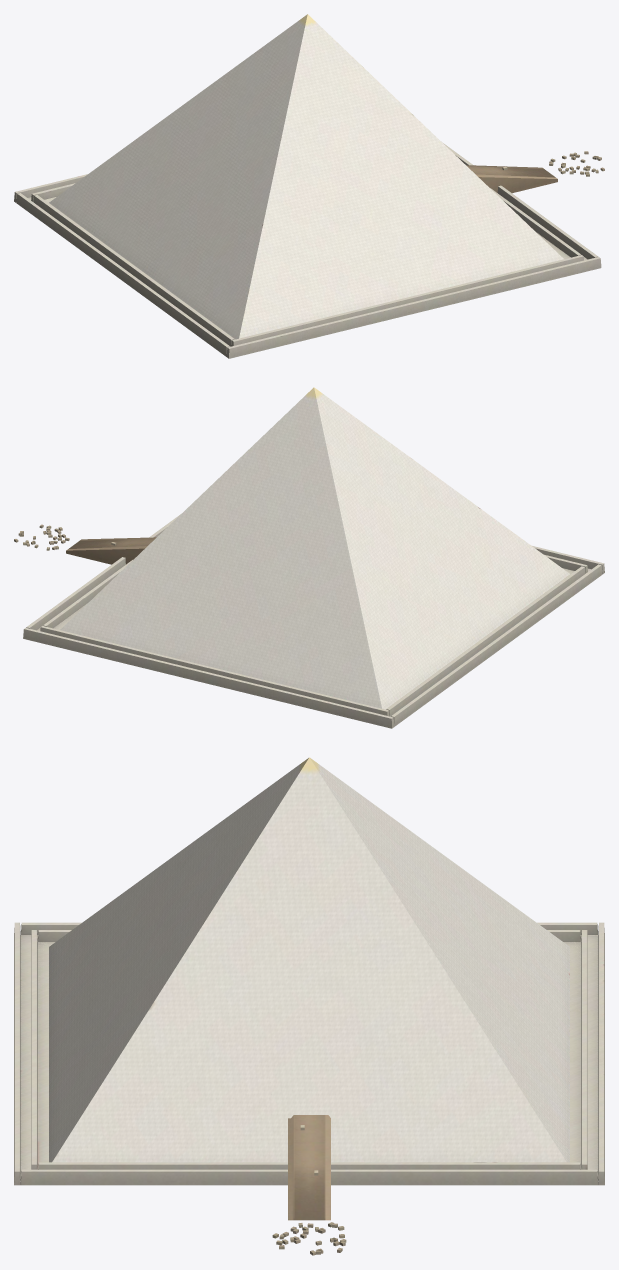
File: giza.glb
3 renders of one model, top to bottom at view 1: azimuth 30°, elevation 25°; view 2: azimuth 150°, elevation 25°; view 3: azimuth 270°, elevation 25°, orthographic. The views are drawn at different scales.
Parts seen in each view (by area): view 1: khufu, khafre, menkaure; view 2: khufu, khafre, menkaure; view 3: khufu, khafre, menkaure.
Part boxes in pixels (x1,y1,x2,y2): khufu: (14,14,601,358); khafre: (31,183,583,346); menkaure: (466,151,604,193); khufu: (23,387,604,728); khafre: (40,554,587,716); menkaure: (14,524,156,564); khufu: (14,757,604,1185); khafre: (31,930,587,1169); menkaure: (272,1115,346,1255).
Size of the model in its own units: 338 by 148 by 261.
Materials: 1 (1 with a texture image).
